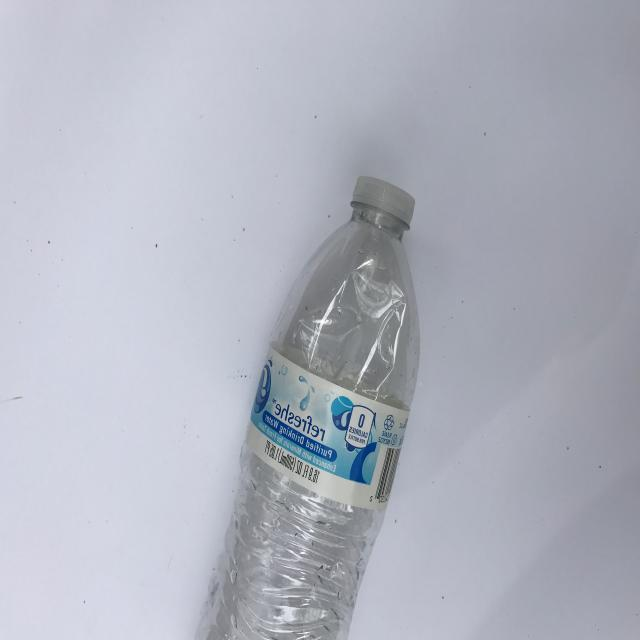plastic: (192, 174, 422, 640)
